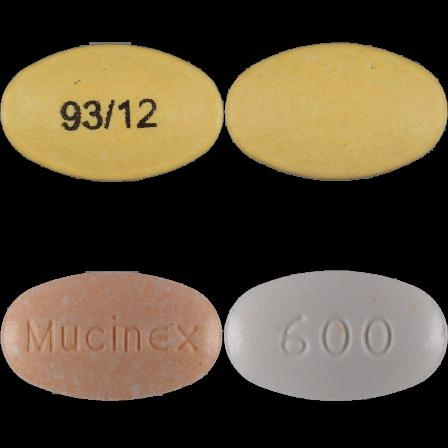54868-5846: (0, 0, 224, 224)
